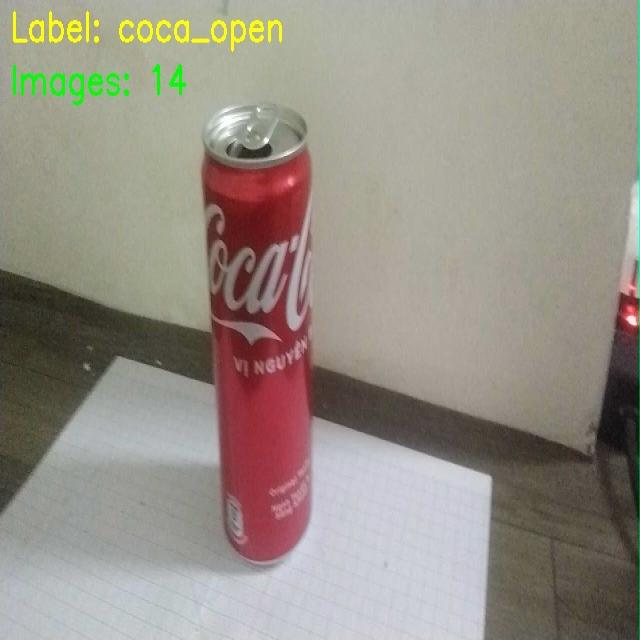Coca_open: (200, 88, 327, 571)
